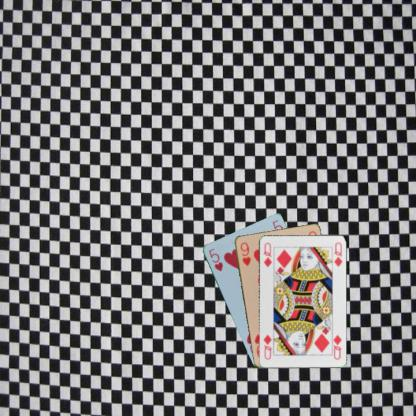5h: (206, 245, 224, 272)
9h: (237, 240, 252, 267)
Qd: (328, 330, 342, 360), (260, 240, 272, 268)
